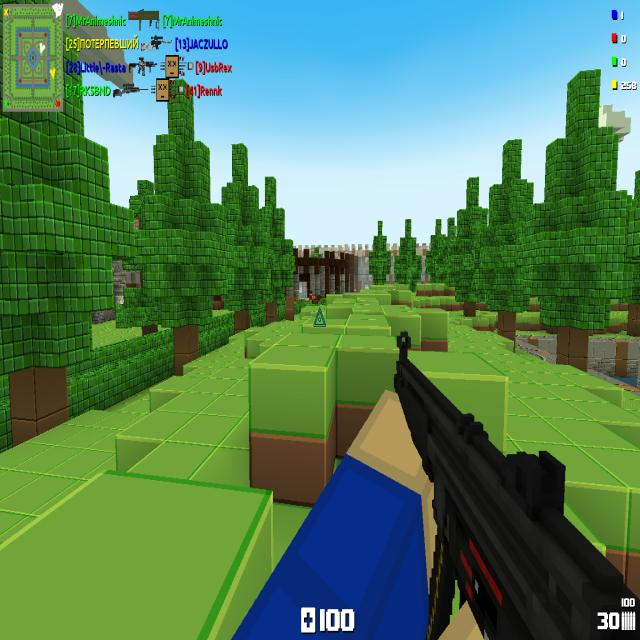enemy: (309, 291, 315, 300), (335, 285, 340, 294), (352, 288, 356, 293)
